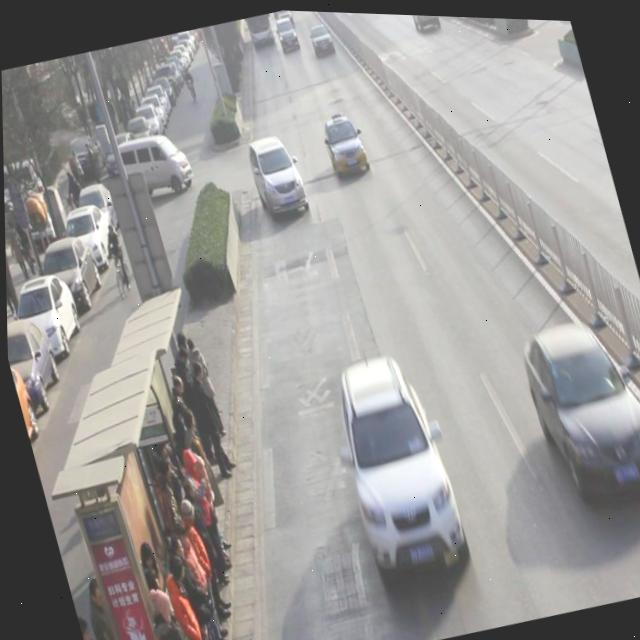car: (321, 344, 474, 590), (517, 306, 640, 516), (243, 130, 312, 223), (319, 110, 372, 181), (307, 19, 338, 59), (407, 12, 442, 34)
